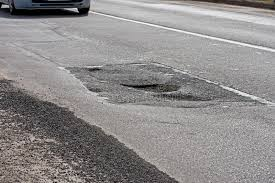pothole: (82, 66, 229, 104)
